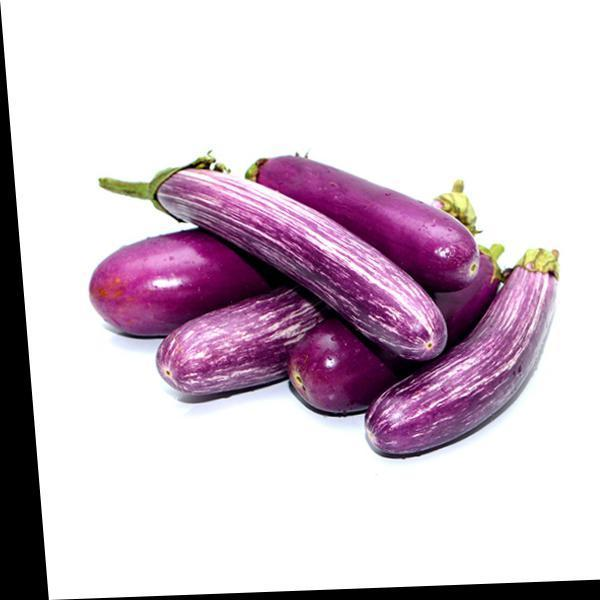eggplant: (64, 100, 568, 485)
